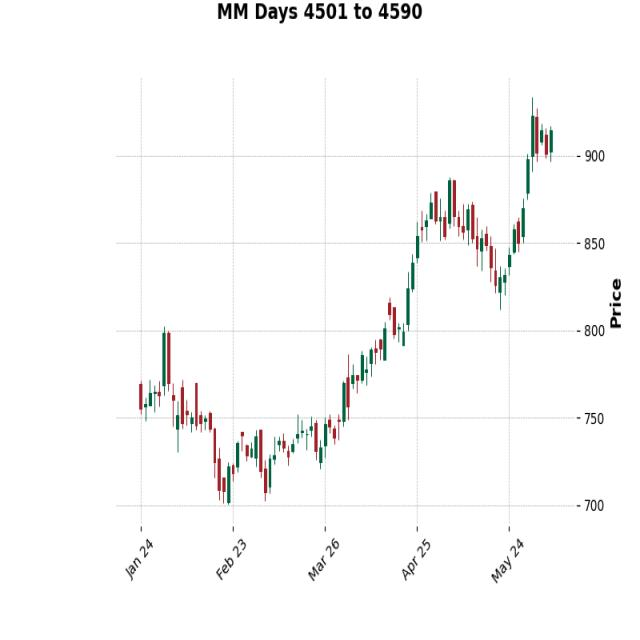Triple Bottom Reversal: (123, 342, 350, 512)
